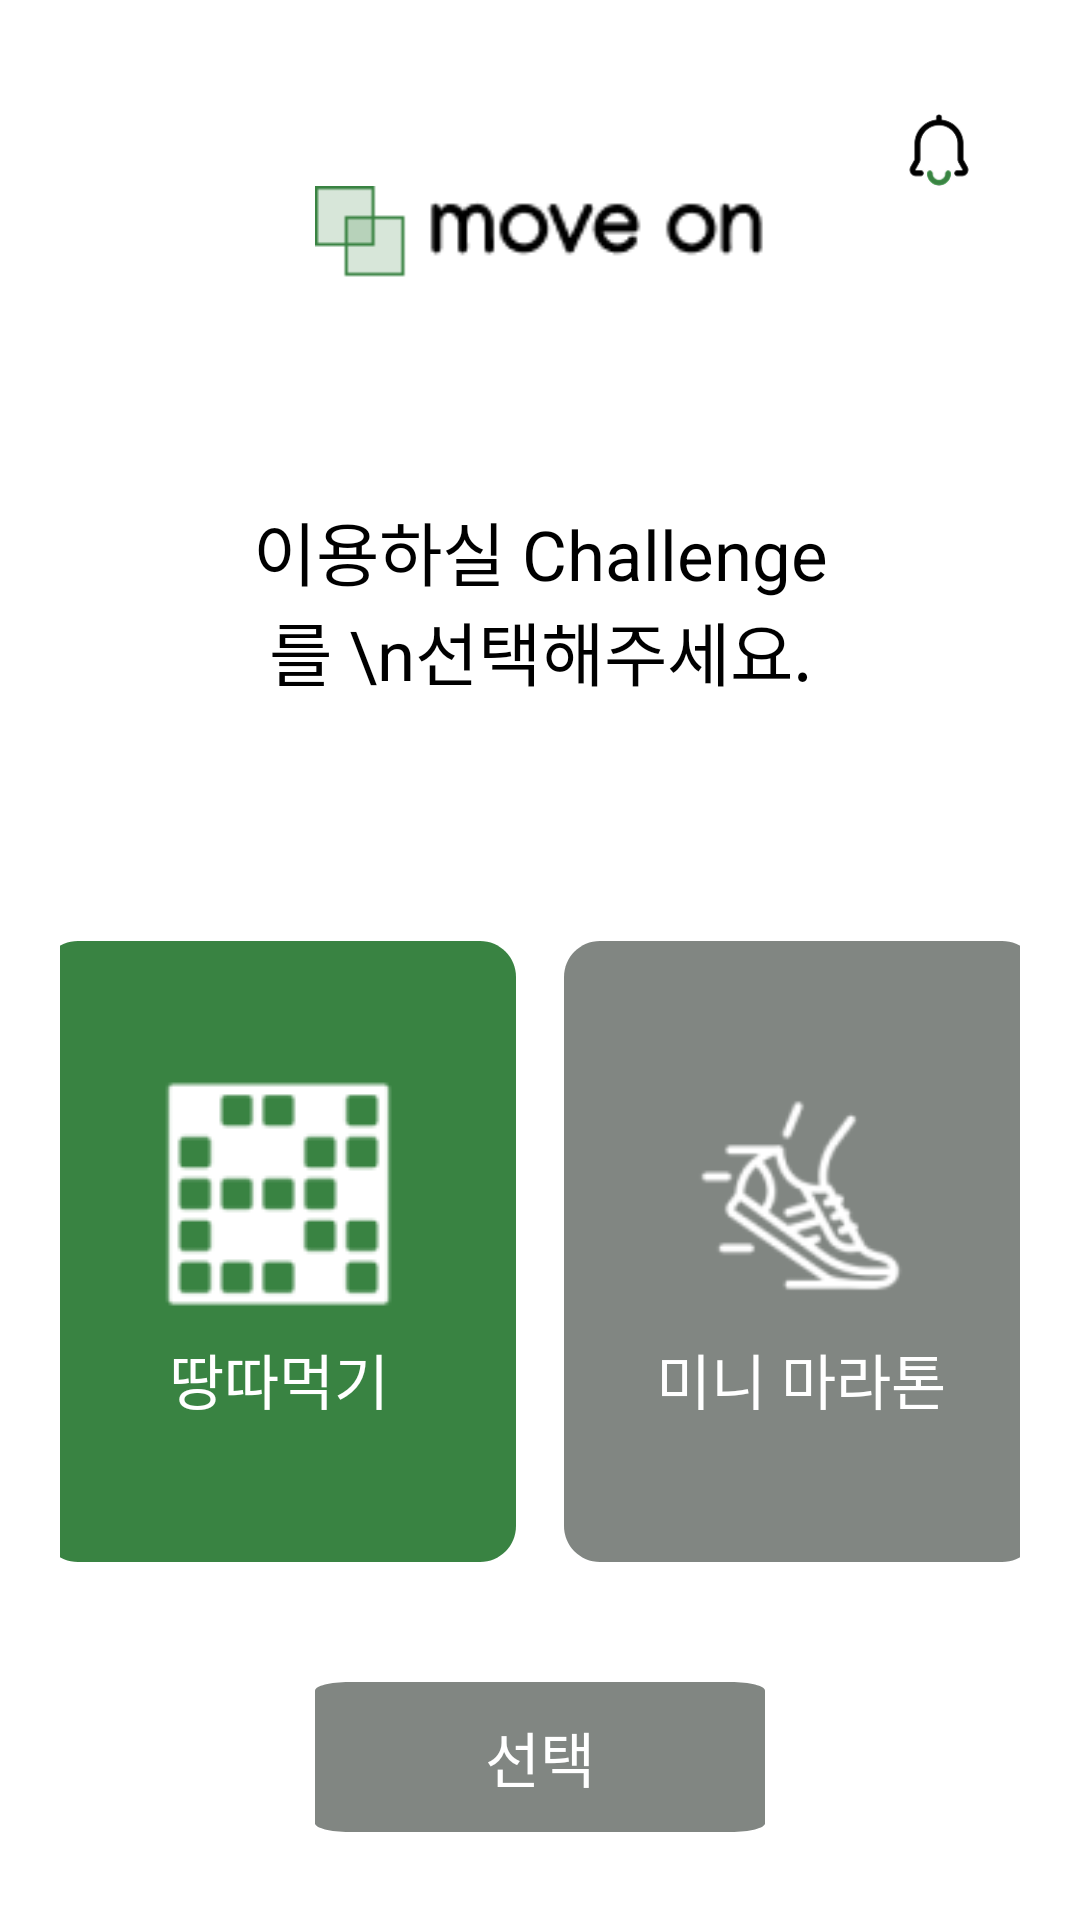

Screen size 1080px×1920px. Icon name, then its center in pixels as (x,y):
game: (278,1194)
shoes: (800,1195)
알림 아이콘: (939,150)
